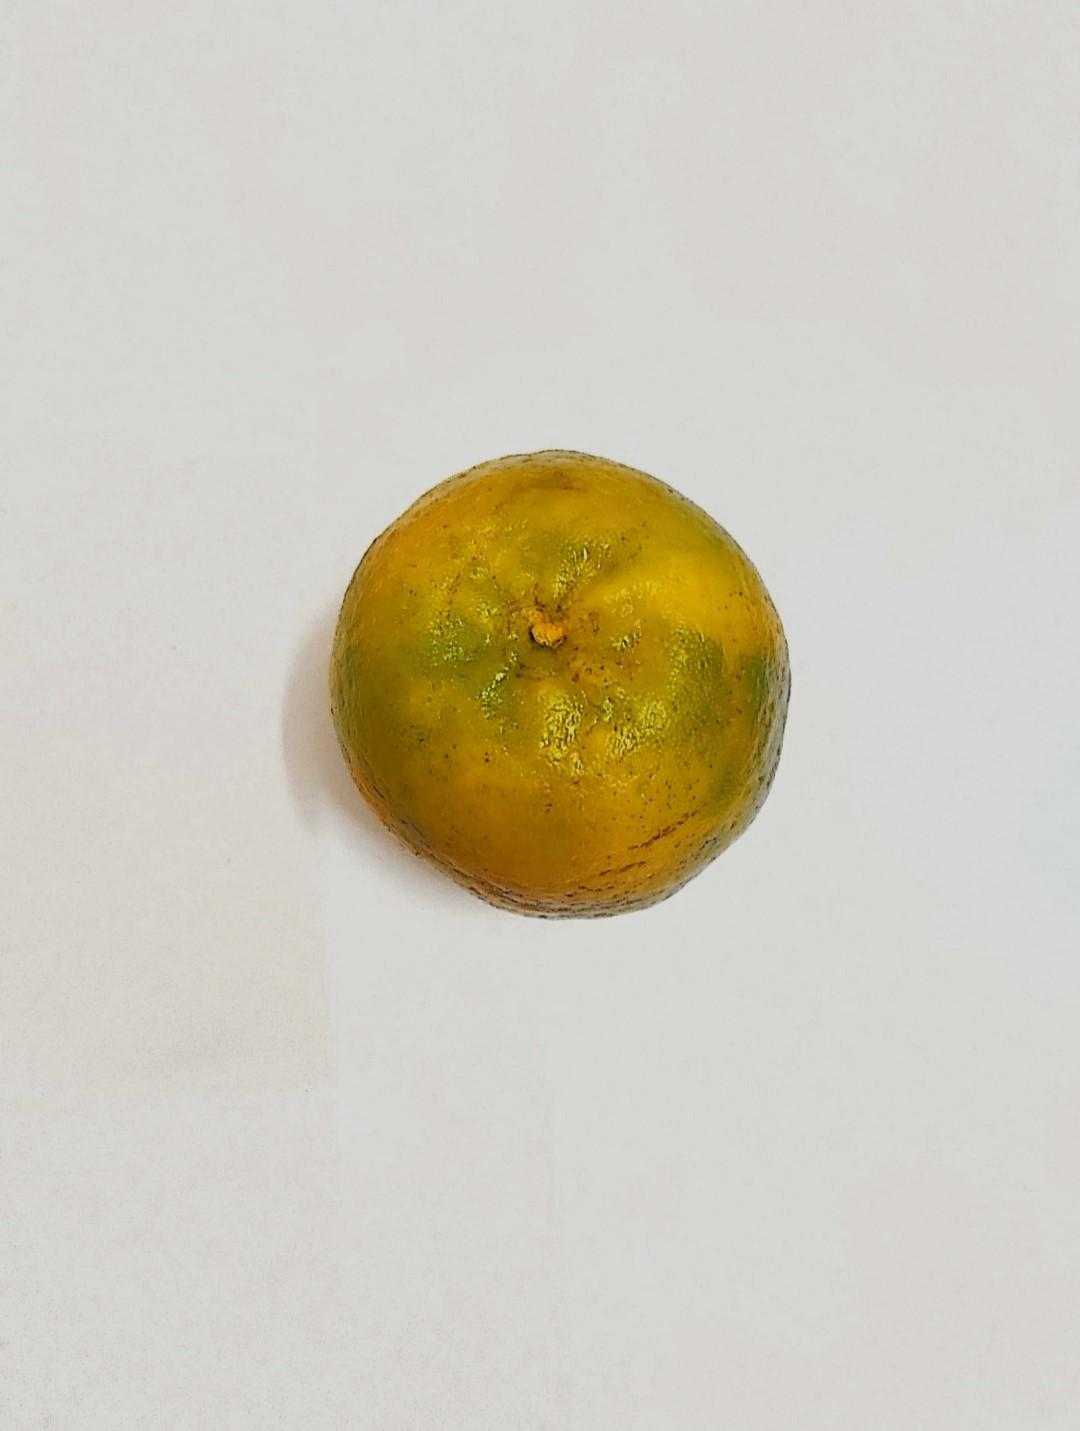Ripe: (334, 464, 790, 894)
